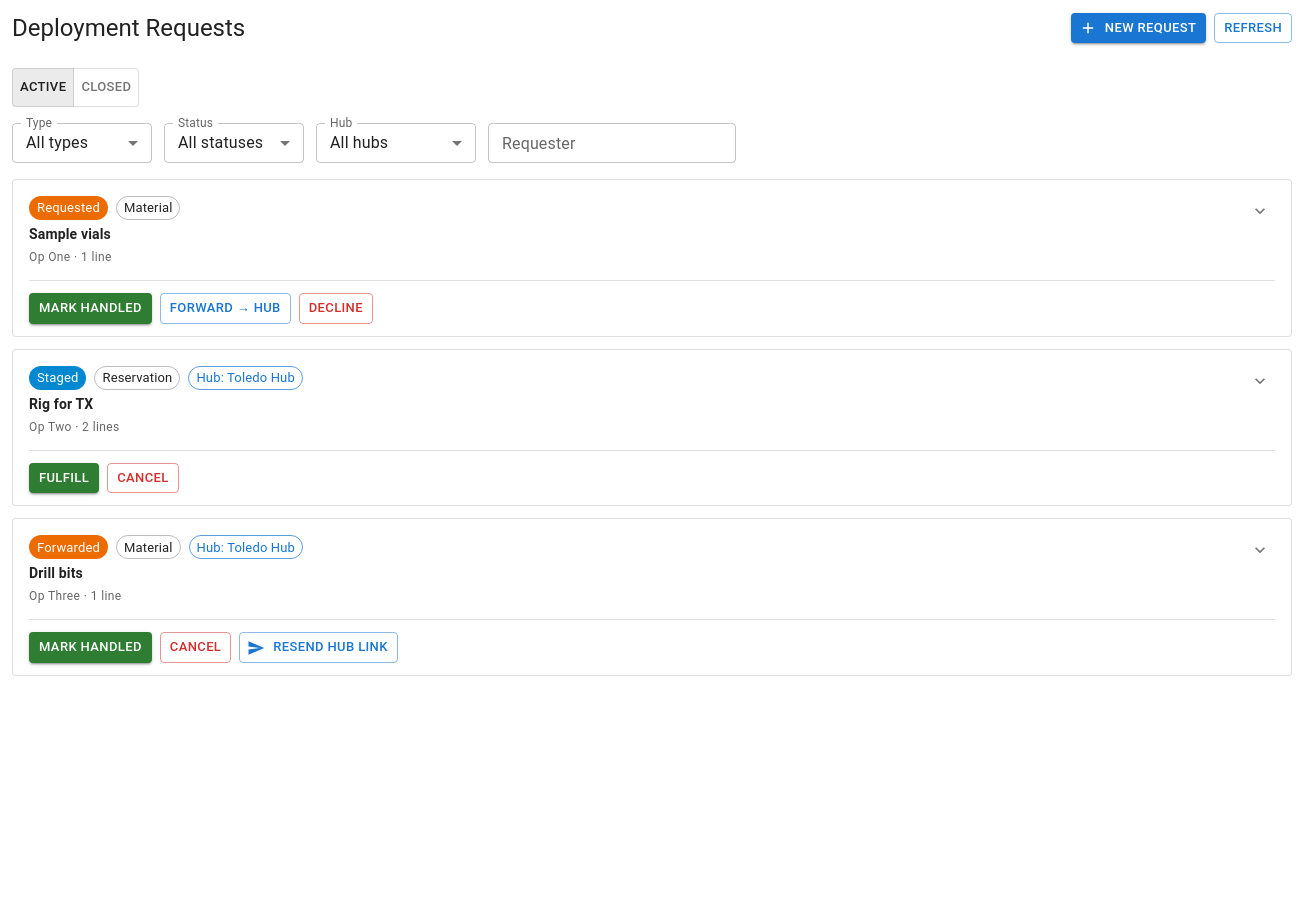
Test: UXP-3 (3c): admin "Mark Handled" on a MATERIAL request › the FORWARDED close ("Mark Handled" → complete) gets the same named toast
This screenshot has width=1304, height=912.
Check: the text "Sample vials" is shown, box [29,226,111,242]
Click the button "Mark Handled" below "Op Three" at (90, 648), box [29,632,152,663]
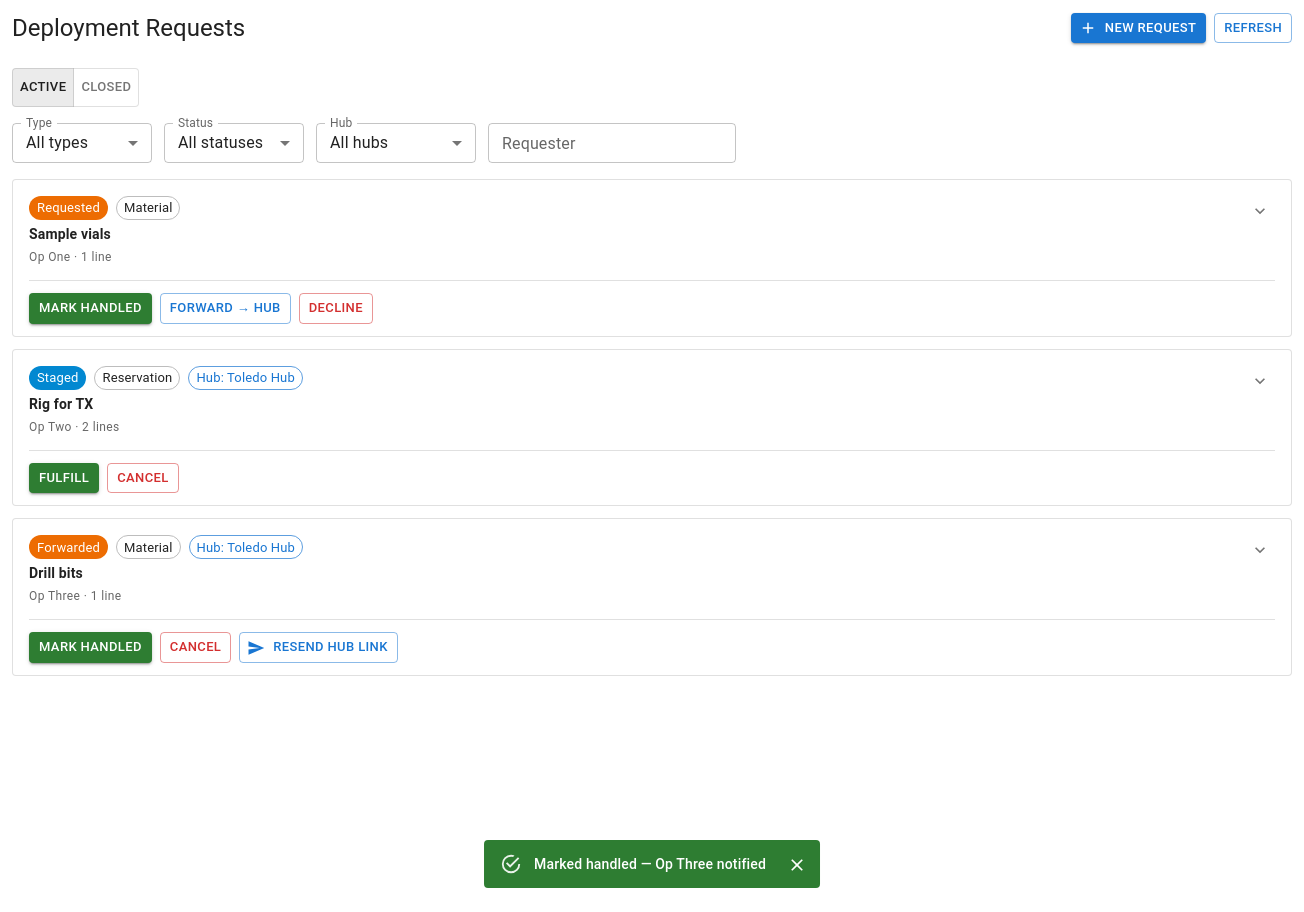
Check: the text "Marked handled — Op Three notified" is shown, box [534,856,766,872]
